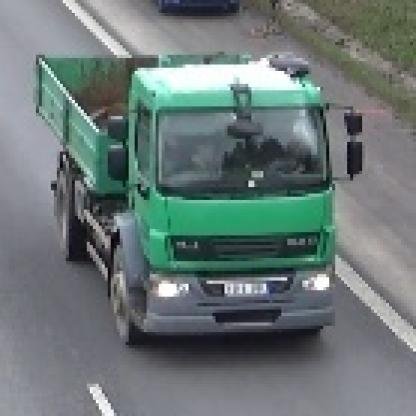truck: (31, 46, 363, 343)
